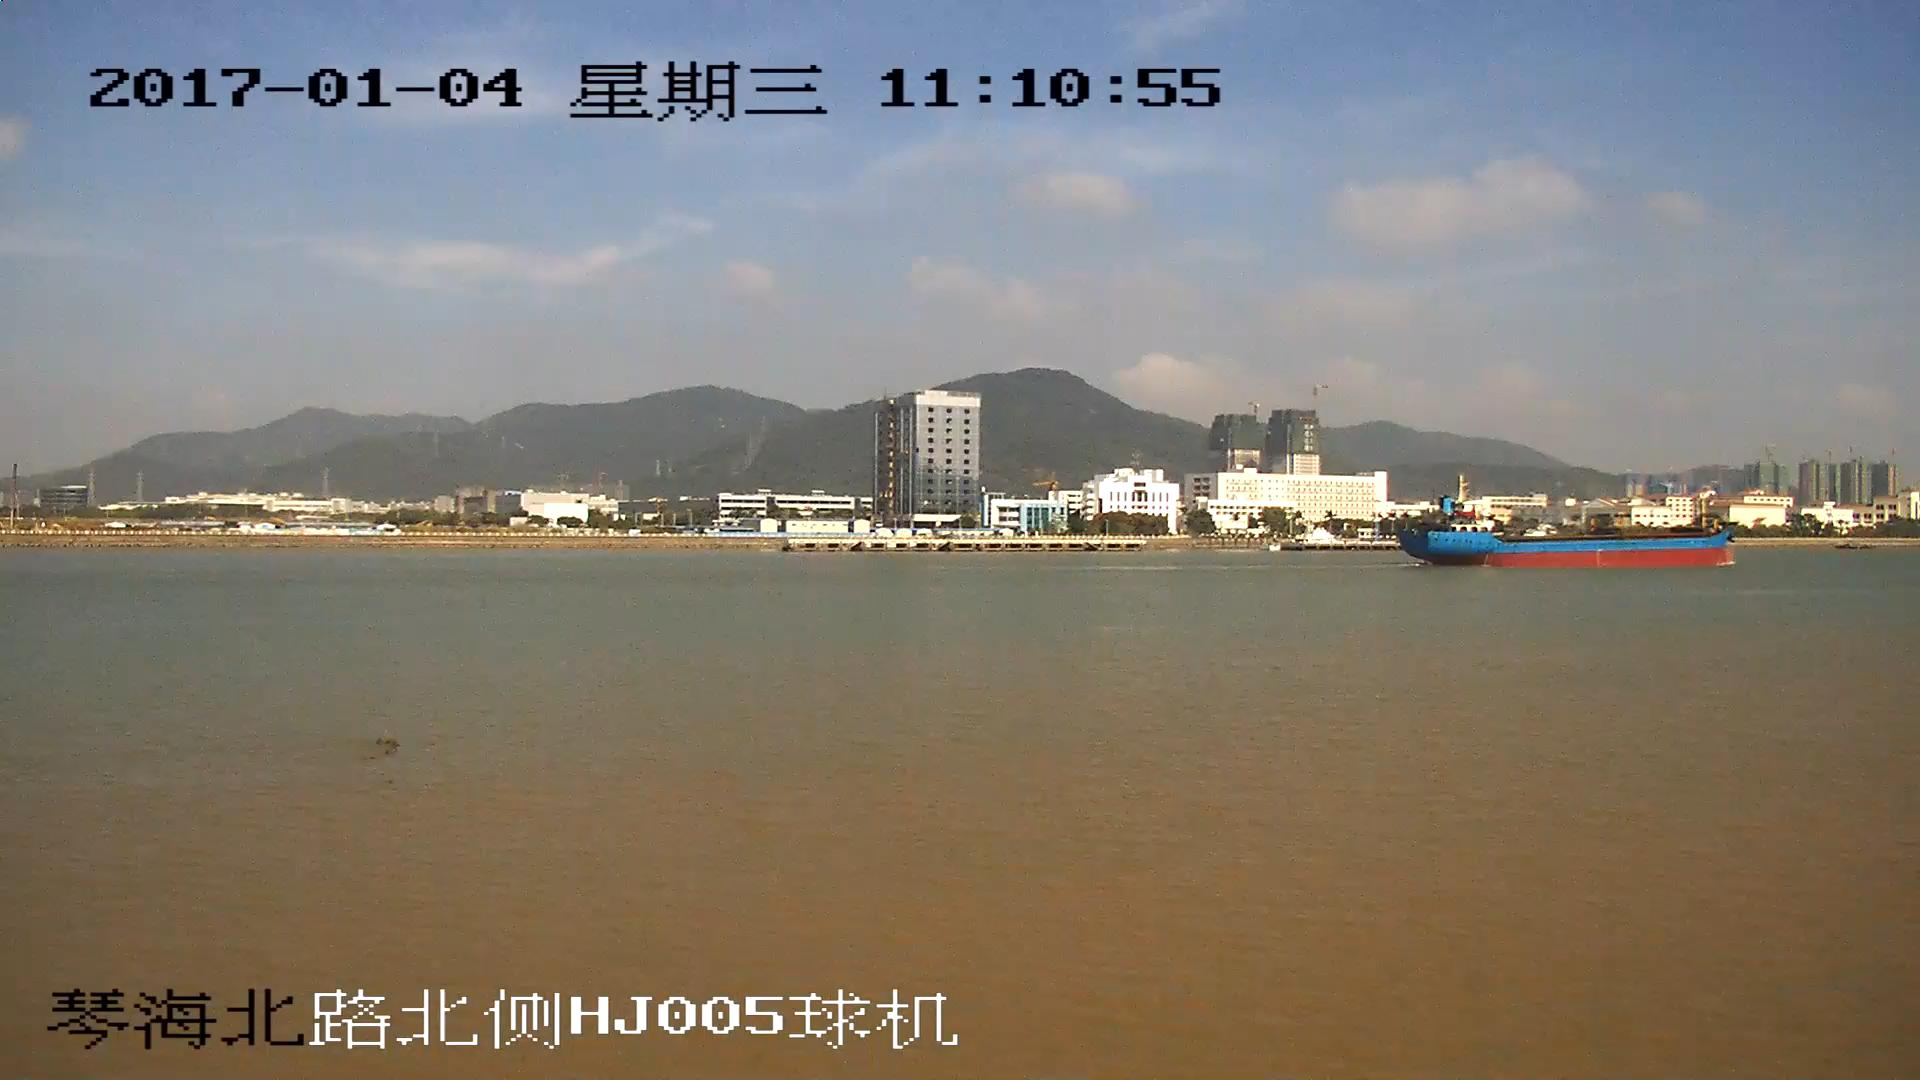general cargo ship: (1397, 476, 1736, 570)
